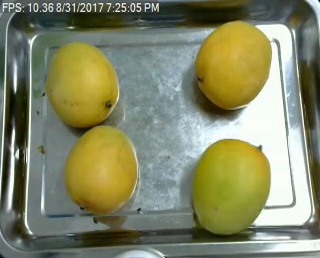Mango: (189, 140, 272, 235), (61, 124, 138, 215), (195, 17, 272, 107), (48, 39, 122, 125)
